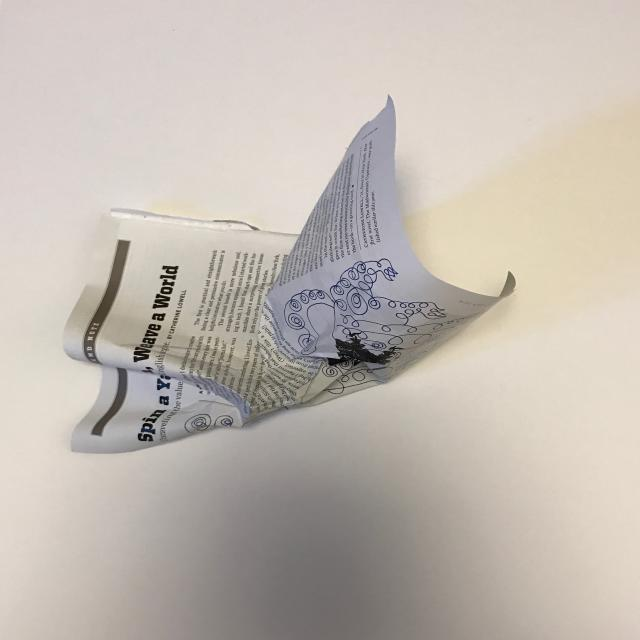Paper: (43, 81, 565, 459)
